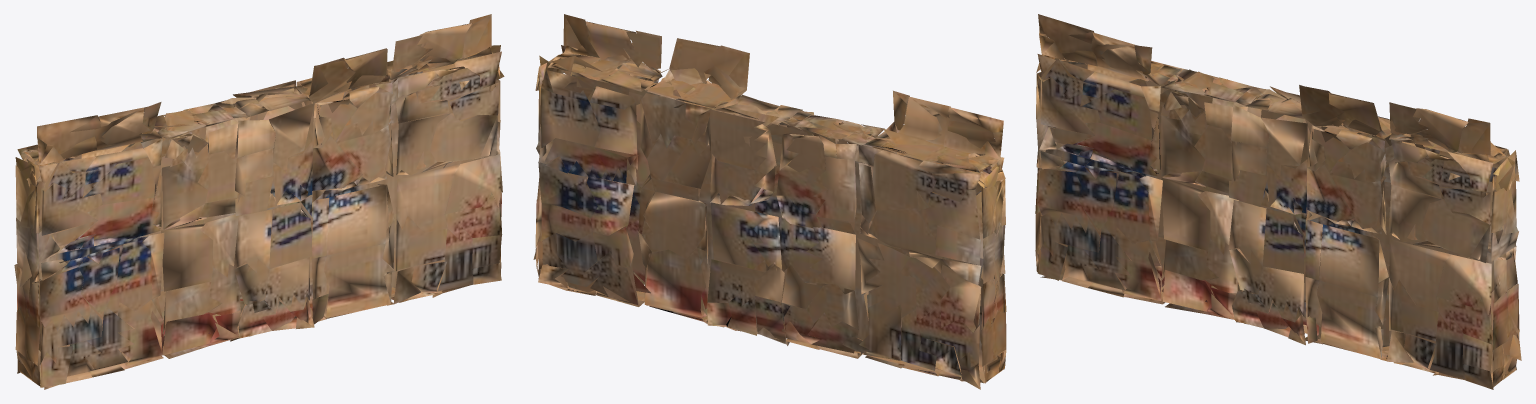
File: cardboard_wall.glb
3 views of the same model, side by side, from view 1: azimuth 30°, elevation 25°; view 2: azimuth 150°, elevation 25°; view 3: azimuth 330°, elevation 25° (orthographic). The views are drawn at different scales.
Parts seen in each view (by area): view 1: Mesh0; view 2: Mesh0; view 3: Mesh0.
Boxes of the visible parts, box(x1,y1,x2,y2) form: Mesh0: box(14, 14, 504, 389); Mesh0: box(533, 14, 1006, 389); Mesh0: box(1035, 14, 1521, 389).
Size of the model in its own units: 1.04 by 0.5588 by 0.1429.
Materials: 1 (1 with a texture image).
